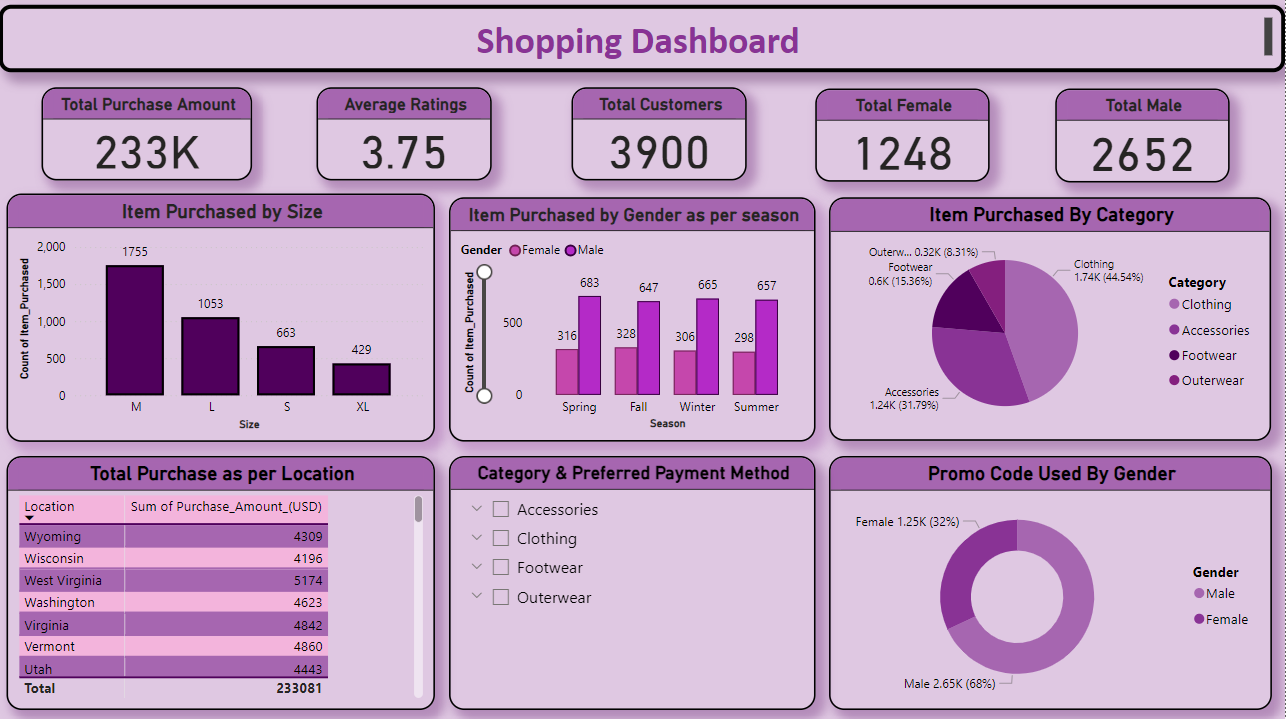

The page's visual inventory and layout, read from the dashboard file:
{"tool":"powerbi","page":{"name":"Shopping Dashboard","canvas":[1280,720],"ordinal":0},"visuals":[{"type":"textbox","box":[0,0,1280,75.9],"z":0},{"type":"card","title":"Total Customers","fields":{"Values":["CountNonNull(shopping_trends.Customer_ID)"]},"box":[569.6,91.2,174.7,92.5],"z":1000},{"type":"card","title":"Average Ratings","fields":{"Values":["Avg(shopping_trends.Review_Rating)"]},"box":[315.4,91.2,174.7,92.5],"z":2000},{"type":"card","title":"Total Purchase Amount","fields":{"Values":["Sum(shopping_trends.Purchase_Amount_(USD))"]},"box":[41.7,91.2,209.9,92.5],"z":3000},{"type":"card","title":"Total Female","fields":{"Values":["shopping_trends.Female_count"]},"box":[812.1,92.5,173.4,92.5],"z":4000},{"type":"card","title":"Total Male","fields":{"Values":["shopping_trends.Male_count"]},"box":[1050.6,92.5,173.4,93.8],"z":5000},{"type":"clusteredColumnChart","title":"Item Purchased by Size","fields":{"Category":["shopping_trends.Size"],"Y":["CountNonNull(shopping_trends.Item_Purchased)"]},"box":[6.9,196.2,426.8,247],"z":6000},{"type":"pieChart","title":"Item Purchased By Category","fields":{"Y":["CountNonNull(shopping_trends.Item_Purchased)"],"Category":["shopping_trends.Category"]},"box":[826,200.3,440.4,242.6],"z":7000},{"type":"pivotTable","title":"Total Purchase as per Location","fields":{"Rows":["shopping_trends.Location"],"Values":["Sum(shopping_trends.Purchase_Amount_(USD))"]},"box":[6.9,458.3,426.8,252.5],"z":8000},{"type":"donutChart","title":"Promo Code Used By Gender","fields":{"Y":["CountNonNull(shopping_trends.Promo_Code_Used)"],"Category":["shopping_trends.Gender"]},"box":[826.1,458.3,440.5,252.5],"z":9000},{"type":"clusteredColumnChart","title":"Item Purchased by Gender as per season","fields":{"Category":["shopping_trends.Season"],"Y":["CountNonNull(shopping_trends.Item_Purchased)"],"Series":["shopping_trends.Gender"]},"box":[447.3,200.3,365,242.9],"z":10000},{"type":"slicer","title":"Category & Preferred Payment Method","fields":{"Values":["shopping_trends.Category","shopping_trends.Preferred_Payment_Method"]},"box":[447.8,457.8,364.5,252.5],"z":11000}]}

Visuals, with their boxes in screenshot pixels (x1, y1, x2, y2), scaled from the page's 1280x720 canvas onto the 1286x719 screenshot:
textbox: l=0, t=0, r=1285, b=76
"Total Customers" card: l=572, t=91, r=748, b=183
"Average Ratings" card: l=317, t=91, r=492, b=183
"Total Purchase Amount" card: l=42, t=91, r=253, b=183
"Total Female" card: l=816, t=92, r=990, b=185
"Total Male" card: l=1056, t=92, r=1230, b=186
"Item Purchased by Size" clusteredColumnChart: l=7, t=196, r=436, b=443
"Item Purchased By Category" pieChart: l=830, t=200, r=1272, b=442
"Total Purchase as per Location" pivotTable: l=7, t=458, r=436, b=710
"Promo Code Used By Gender" donutChart: l=830, t=458, r=1273, b=710
"Item Purchased by Gender as per season" clusteredColumnChart: l=449, t=200, r=816, b=443
"Category & Preferred Payment Method" slicer: l=450, t=457, r=816, b=709
